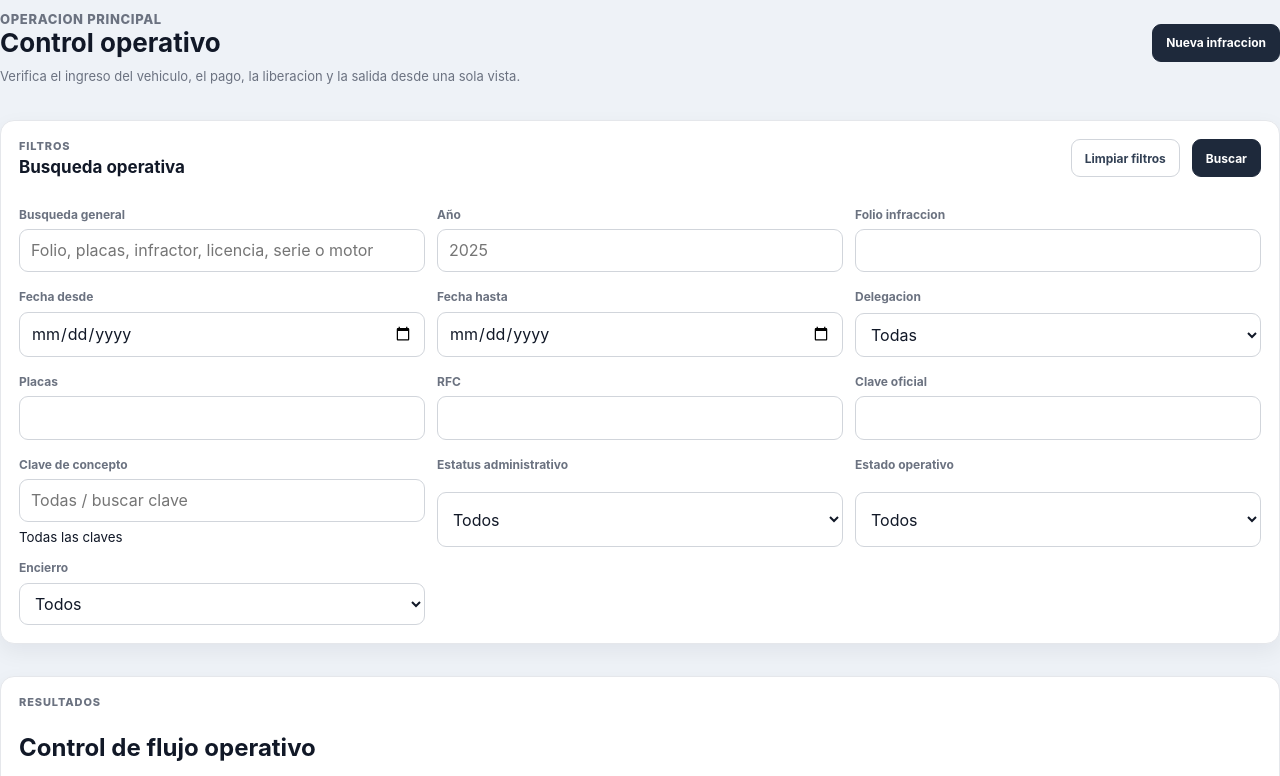
Test: InfraccionesListPage validacion de rango de fechas › Q3.1-08 limpiar filtros restablece fechas, error y alcance
This screenshot has width=1280, height=776.
In the date field labelled "Fecha desde": (222,334) [19, 312, 425, 357], type "2026-08-24"
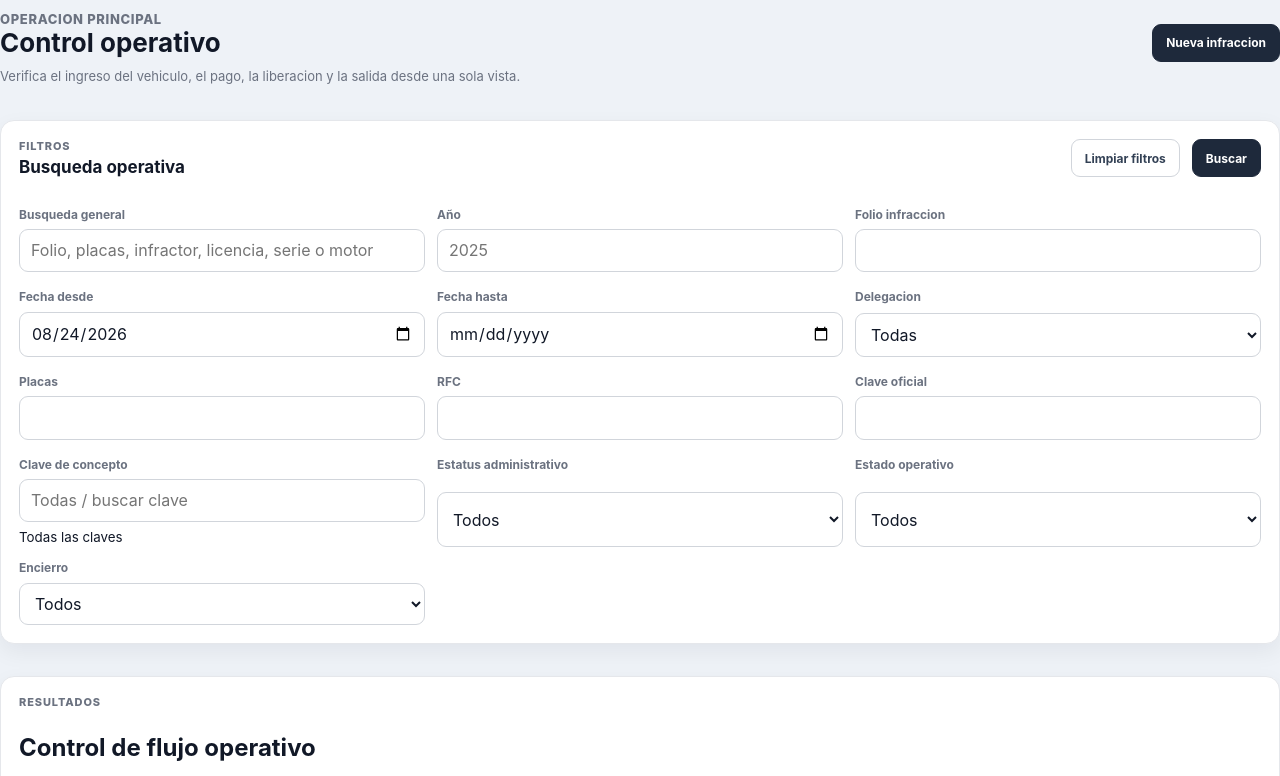
In the date field labelled "Fecha hasta": (640,334) [437, 312, 843, 357], type "2026-08-20"
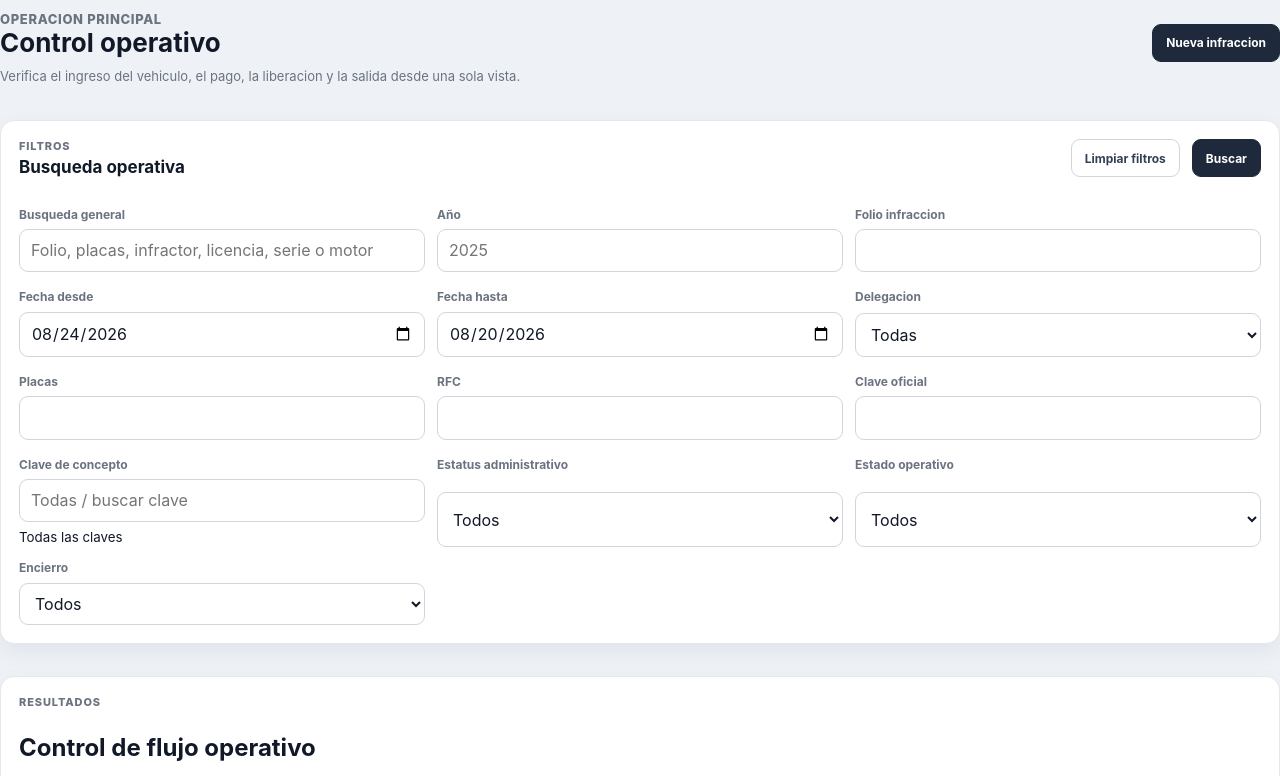
Click the button "Buscar": (1226,158) [1192, 139, 1261, 177]
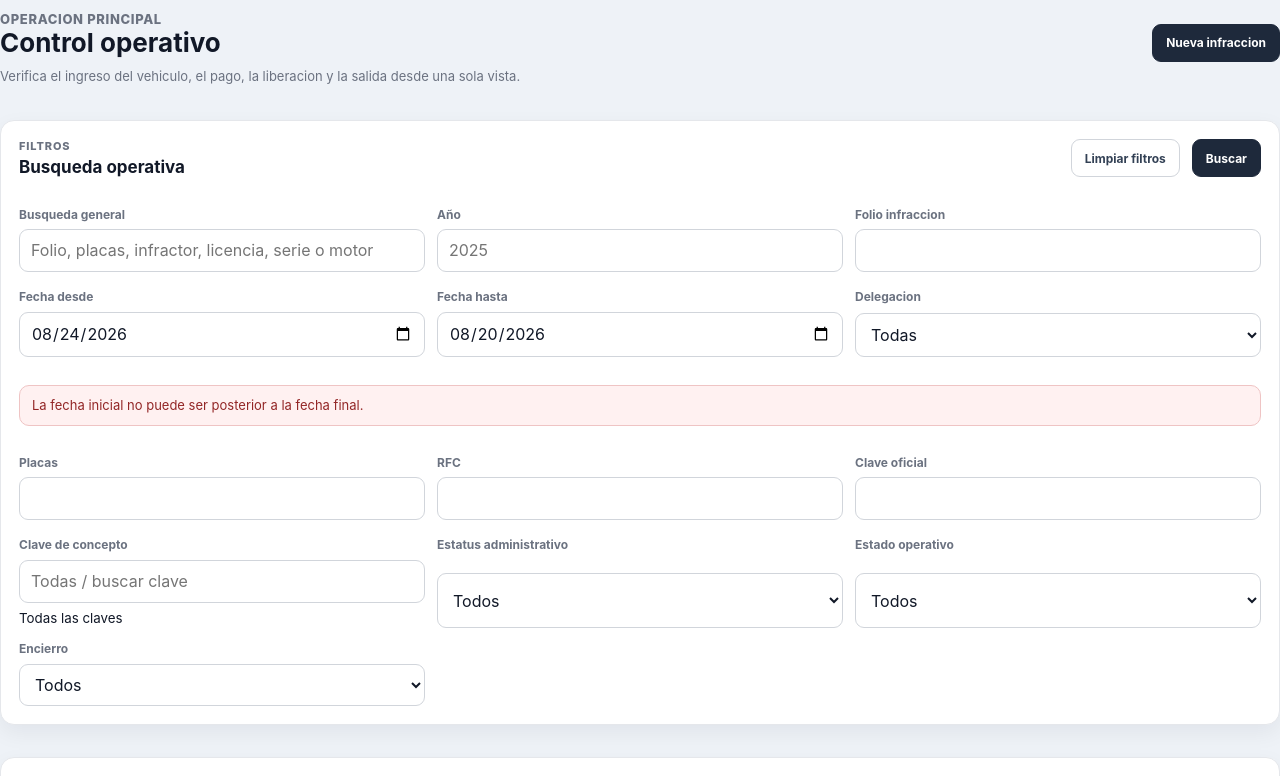
Expected: the text "La fecha inicial no puede ser posterior a la fecha final." is shown, [19, 385, 1261, 426]
Click the button "Limpiar filtros": (1125,158) [1071, 139, 1180, 177]
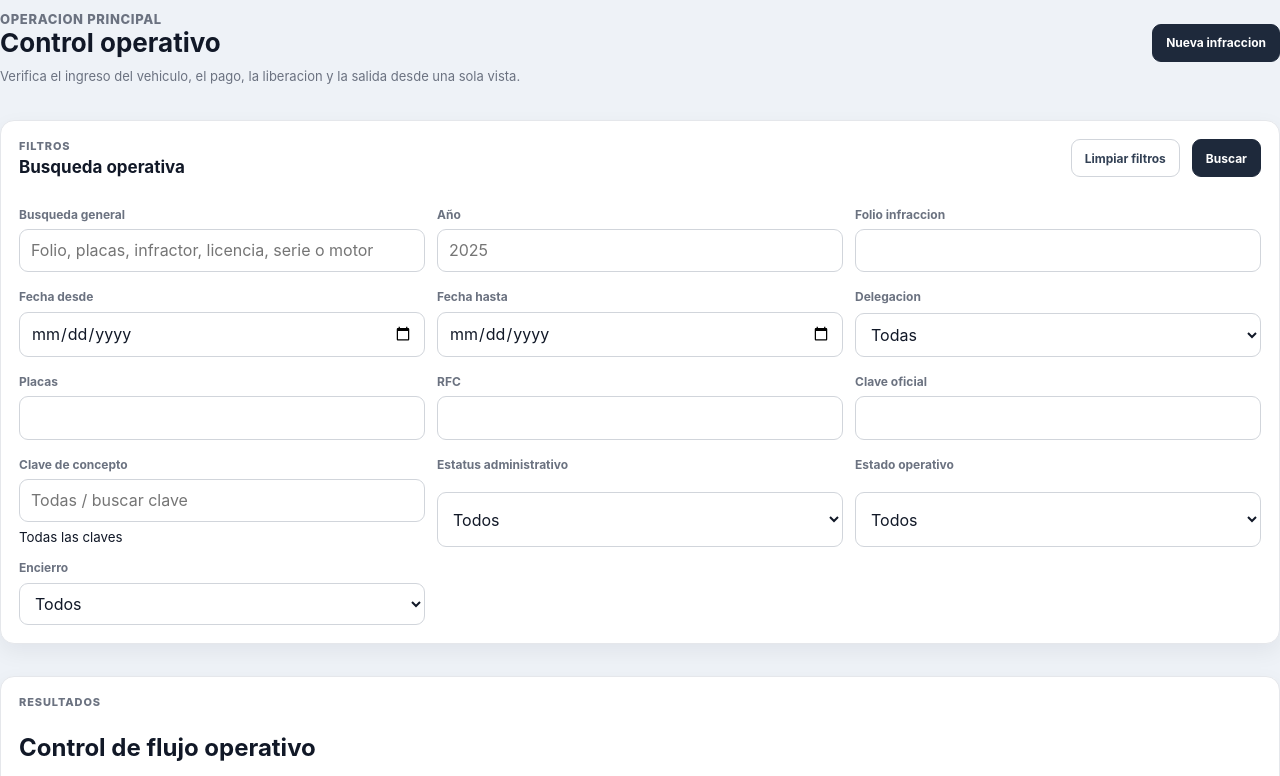
Expected: the date field labelled "Fecha desde" is empty, [19, 312, 425, 357]
Expected: the date field labelled "Fecha hasta" is empty, [437, 312, 843, 357]
Expected: the text "La fecha inicial no puede ser posterior a la fecha final." is gone
